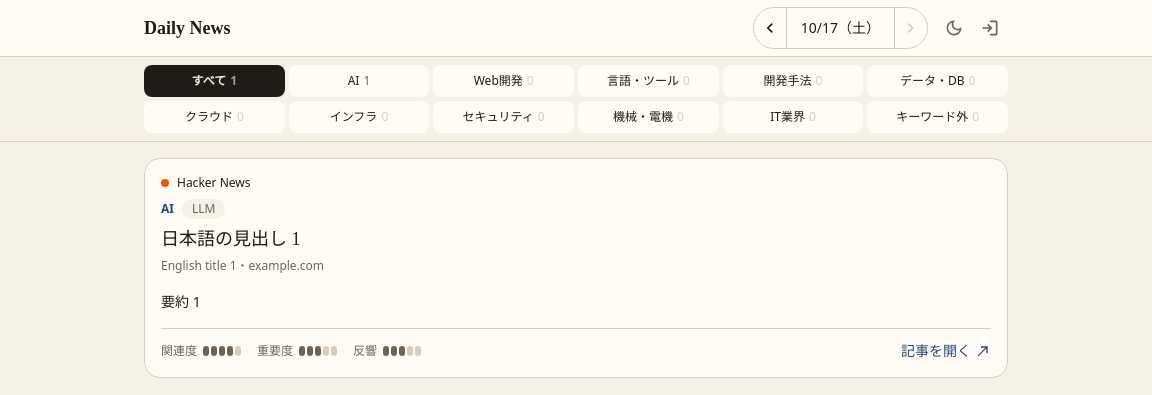
Test: 絞り込み › 記事のないカテゴリを選ぶと案内を出し、「すべて表示」で戻る
expect the link "日本語の見出し 1" is shown: met, box [161,229,300,249]
Click the button "IT業界 0" at (793, 117), box [723,101,863,133]
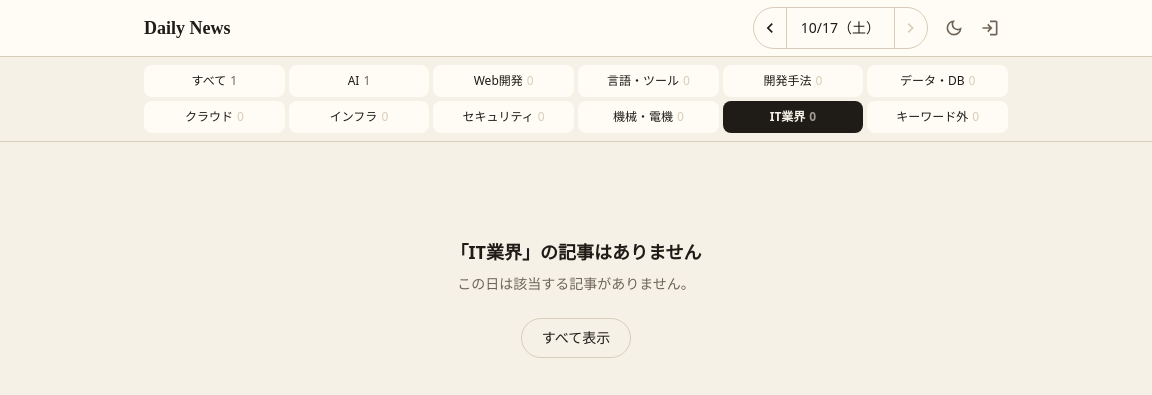
expect the text "「IT業界」の記事はありません" is shown: met, box [450,238,701,266]
expect the text "この日は該当する記事がありません。" is shown: met, box [457,274,695,294]
expect the link "日本語の見出し 1" is gone: met
Click the button "すべて表示" at (576, 338), box [521,318,631,358]
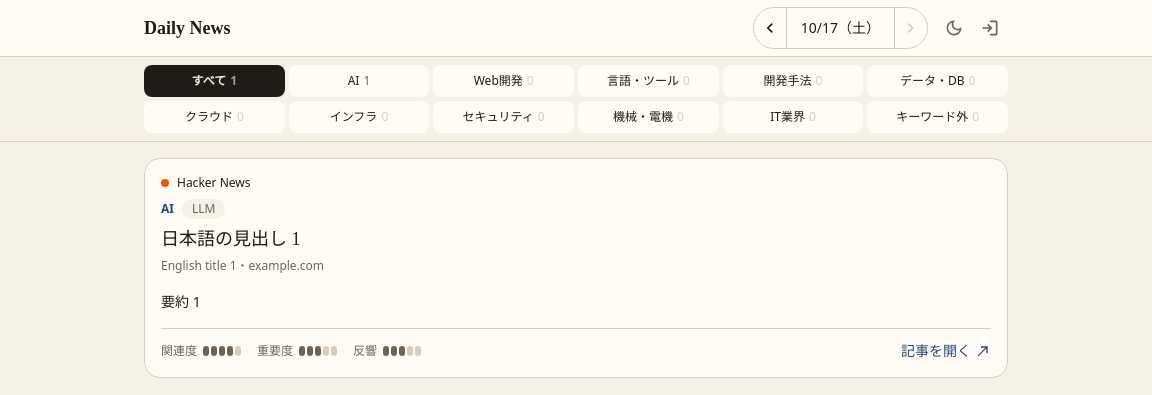
expect the link "日本語の見出し 1" is shown: met, box [161,229,300,249]
